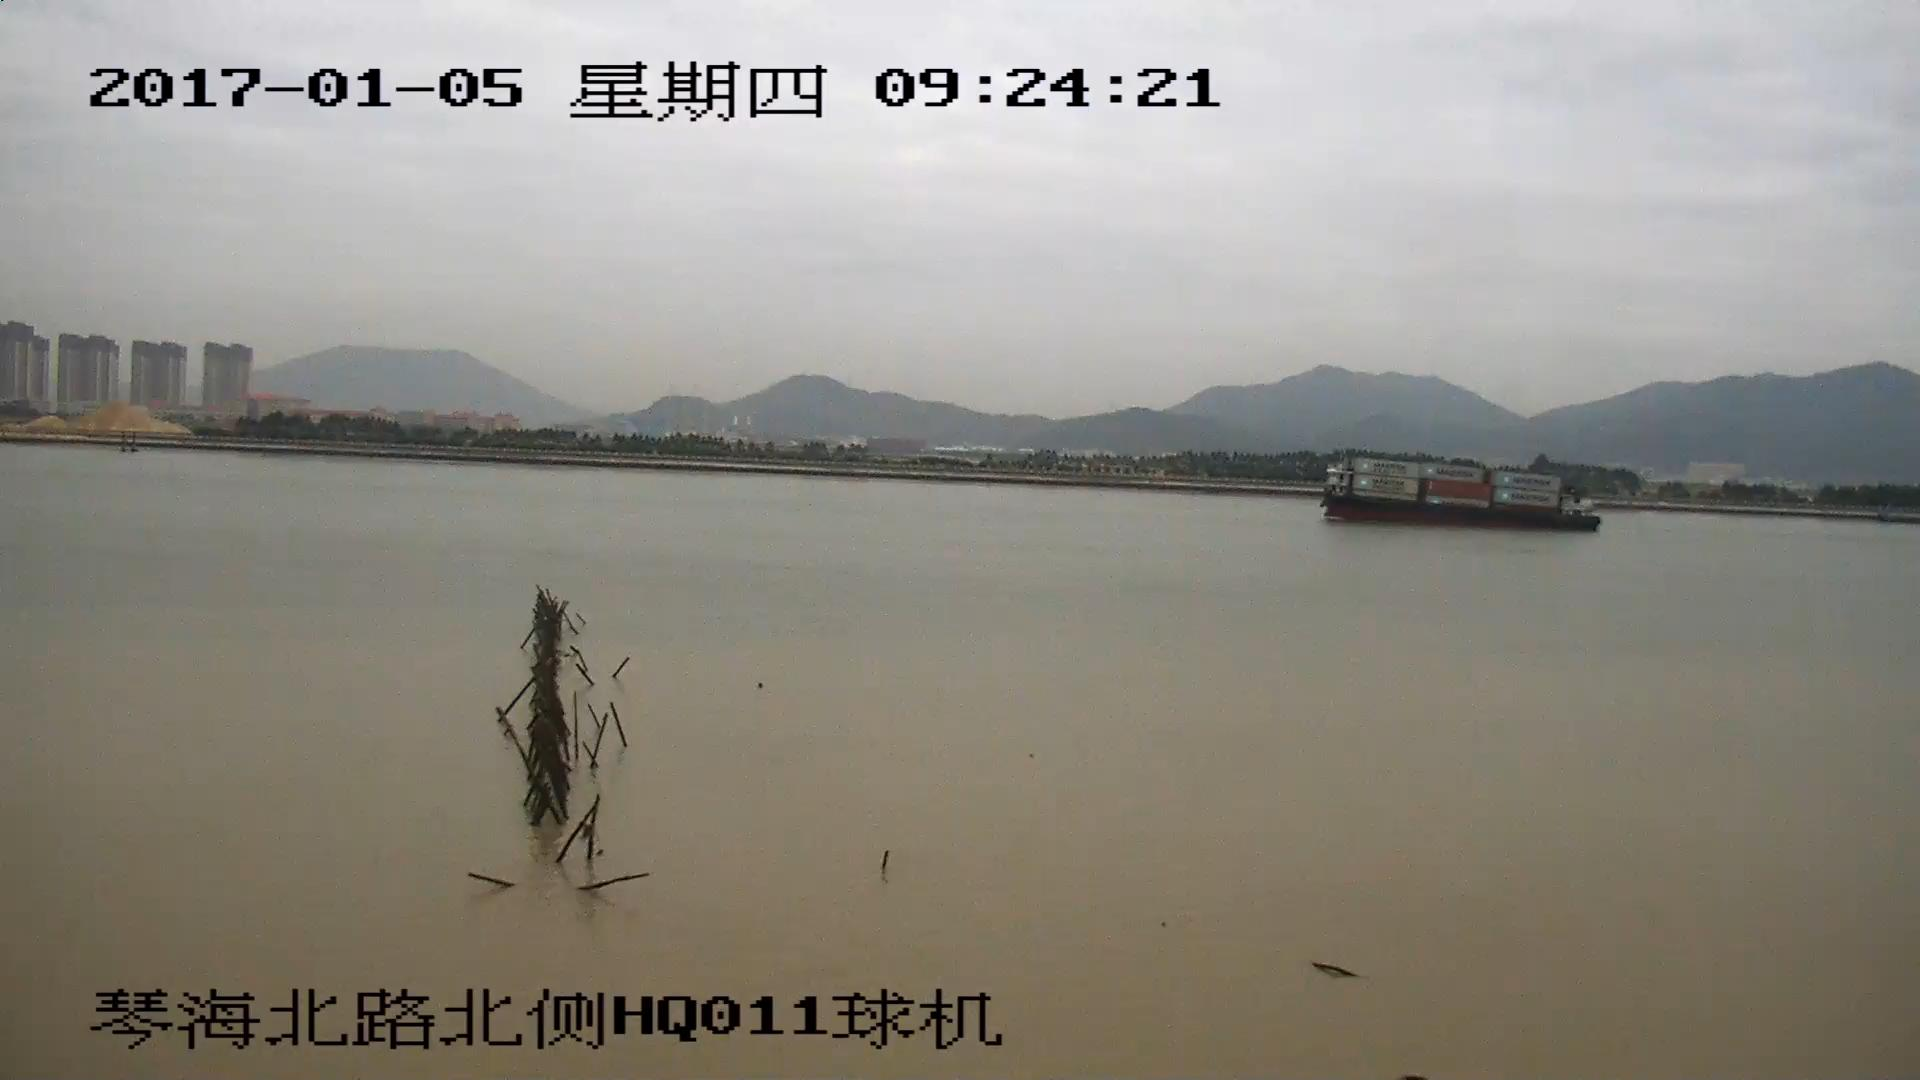container ship: (1322, 458, 1598, 527)
